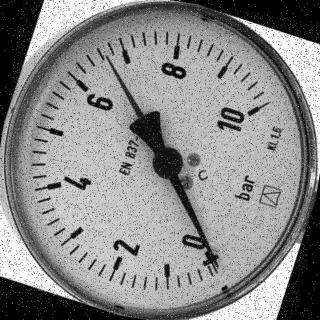gauge: (0, 0, 320, 320), (231, 88, 275, 134), (185, 233, 229, 271), (149, 143, 187, 182), (207, 254, 225, 273), (100, 49, 114, 65)
